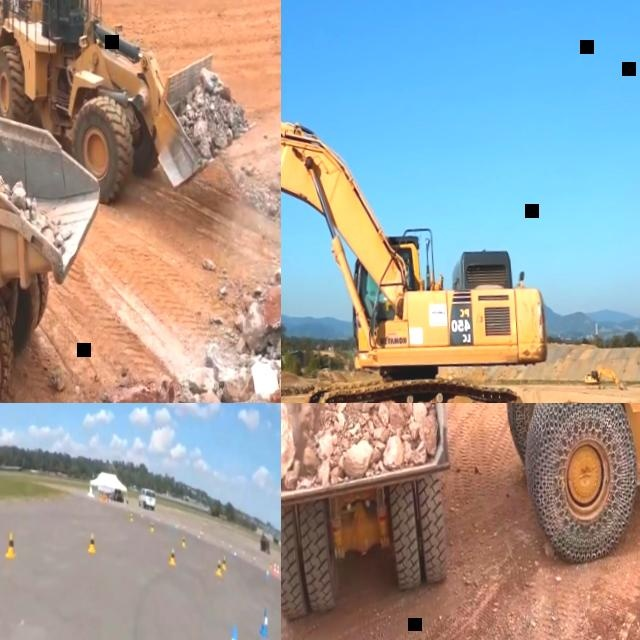Person: (592, 372, 595, 378)
Safety Cone: (3, 531, 17, 562), (258, 609, 271, 640), (220, 625, 244, 640), (86, 531, 97, 556), (168, 548, 178, 568), (215, 559, 223, 578), (221, 556, 228, 571), (182, 535, 188, 549), (149, 522, 155, 533), (273, 561, 277, 575), (130, 511, 135, 521), (277, 563, 280, 577)
machinery: (281, 43, 558, 403), (0, 0, 263, 218), (325, 403, 640, 585), (0, 36, 119, 403), (281, 403, 464, 628), (584, 366, 629, 394)
vehicle: (138, 487, 156, 512)
